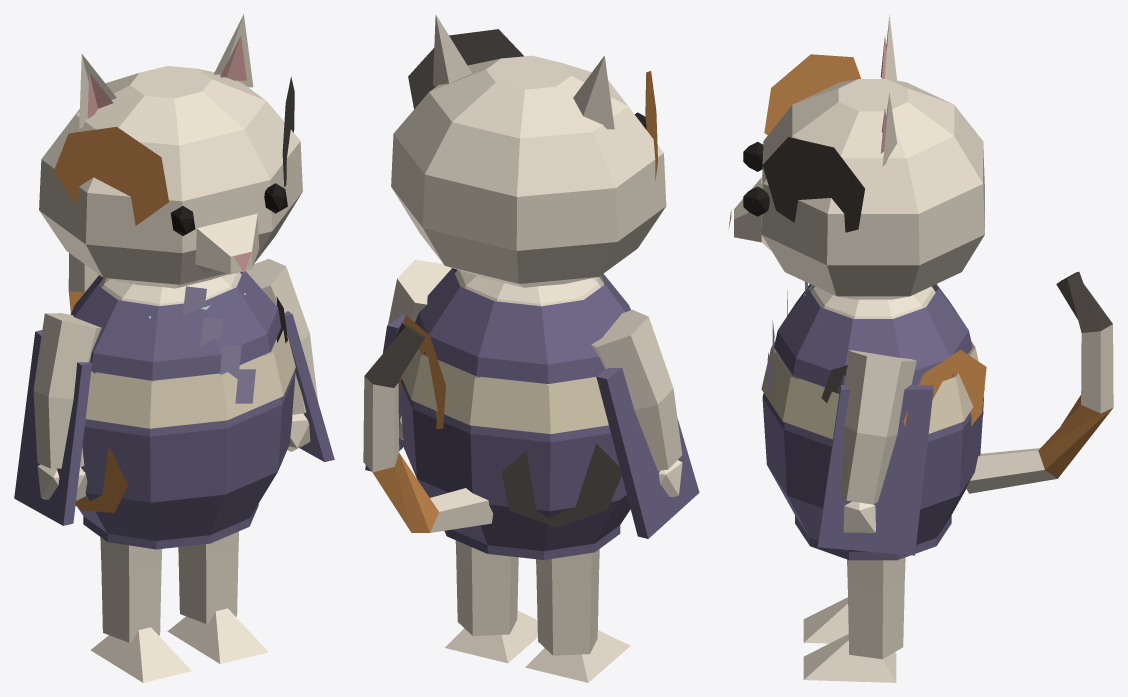
The model's file is cat.glb.
The picture shows the model from 3 angles, left to right: view 1: azimuth 30°, elevation 25°; view 2: azimuth 150°, elevation 25°; view 3: azimuth 270°, elevation 25°; orthographic projection. The views are drawn at different scales.
Parts seen in each view (by area): view 1: kimono, head, leg_L, leg_R, arm_L, kimono_sleeve_L, arm_R, body, kimono_sleeve_R, patches, ear_R, ear_L (+3 smaller); view 2: head, kimono, tail, leg_L, arm_L, leg_R, kimono_sleeve_L, patches, body, arm_R, ear_L, ear_R (+1 smaller); view 3: head, kimono, kimono_sleeve_R, tail, arm_R, leg_R, patches, body, leg_L, ear_R, eye_R, ear_L.
Part boxes in pixels (box(x1,y1,x2,y2)): kimono: box(70, 271, 295, 549); head: box(39, 66, 302, 288); leg_L: box(90, 537, 191, 682); leg_R: box(167, 531, 268, 663); arm_L: box(33, 313, 101, 500); kimono_sleeve_L: box(14, 330, 91, 525); arm_R: box(246, 259, 317, 451); body: box(93, 272, 277, 381); kimono_sleeve_R: box(284, 311, 334, 461); patches: box(75, 296, 287, 512); ear_R: box(214, 14, 253, 87); ear_L: box(79, 54, 116, 129); head: box(391, 29, 666, 287); kimono: box(399, 268, 630, 559); tail: box(363, 323, 493, 532); leg_L: box(525, 549, 630, 682); arm_L: box(591, 309, 682, 497); leg_R: box(445, 540, 537, 663); kimono_sleeve_L: box(596, 368, 699, 538); patches: box(399, 315, 621, 527); body: box(438, 270, 604, 385); arm_R: box(388, 259, 451, 439); ear_L: box(573, 56, 614, 129); ear_R: box(433, 14, 471, 86); head: box(728, 54, 984, 299); kimono: box(761, 282, 984, 560); kimono_sleeve_R: box(817, 385, 933, 555); tail: box(966, 271, 1113, 493); arm_R: box(841, 350, 916, 532); leg_R: box(803, 557, 905, 682); patches: box(783, 349, 986, 471); body: box(779, 286, 935, 388); leg_L: box(803, 597, 848, 643); ear_R: box(880, 93, 896, 166); eye_R: box(743, 186, 769, 216); ear_L: box(880, 14, 896, 80).
Size of the model in its own units: 0.0676 by 0.142 by 0.0831.
